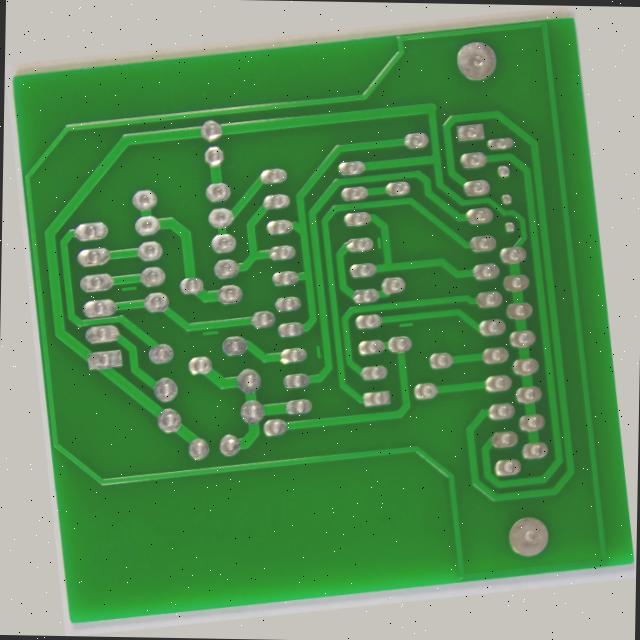spurious_copper: (100, 250, 125, 265), (182, 311, 210, 324), (309, 341, 321, 364), (389, 233, 403, 249), (405, 329, 425, 340)
